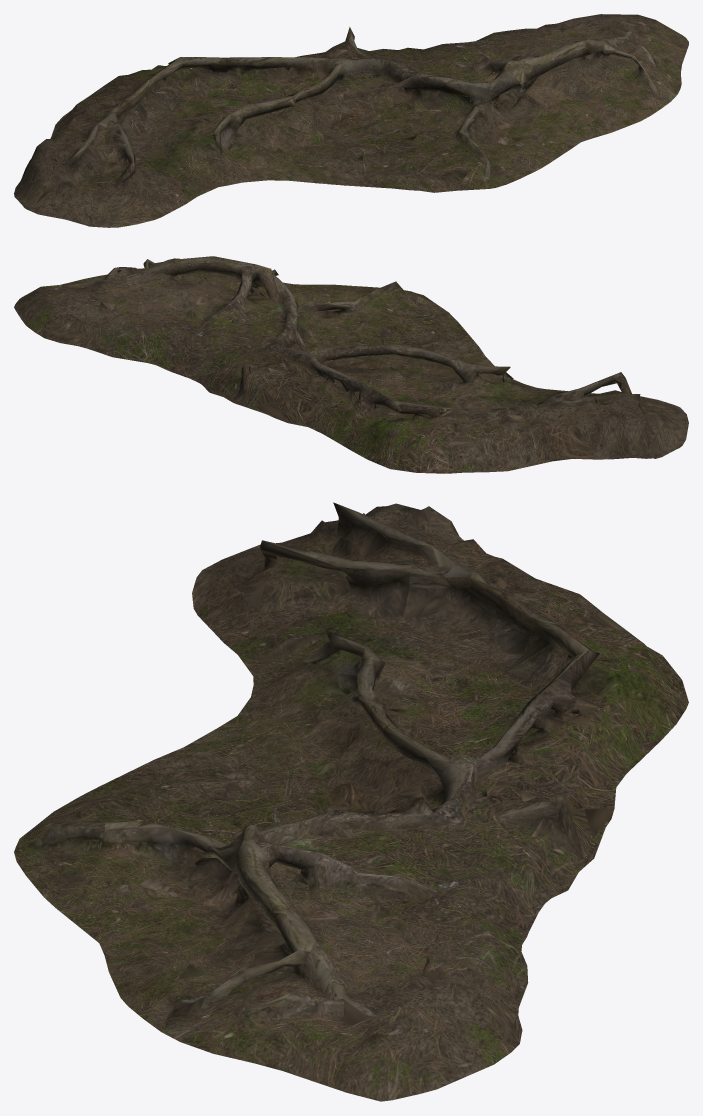
File: pine_roots_a.glb
3 renders of one model, top to bottom at view 1: azimuth 30°, elevation 25°; view 2: azimuth 150°, elevation 25°; view 3: azimuth 270°, elevation 25°, orthographic. The views are drawn at different scales.
Parts seen in each view (by area): view 1: pine_roots_a; view 2: pine_roots_a; view 3: pine_roots_a.
Part boxes in pixels (x1,y1,x2,y2): pine_roots_a: [14, 14, 688, 227]; pine_roots_a: [14, 256, 688, 473]; pine_roots_a: [14, 502, 688, 1101].
Size of the model in its own units: 3.25 by 0.2636 by 1.64.
1 material, 1 textured.
